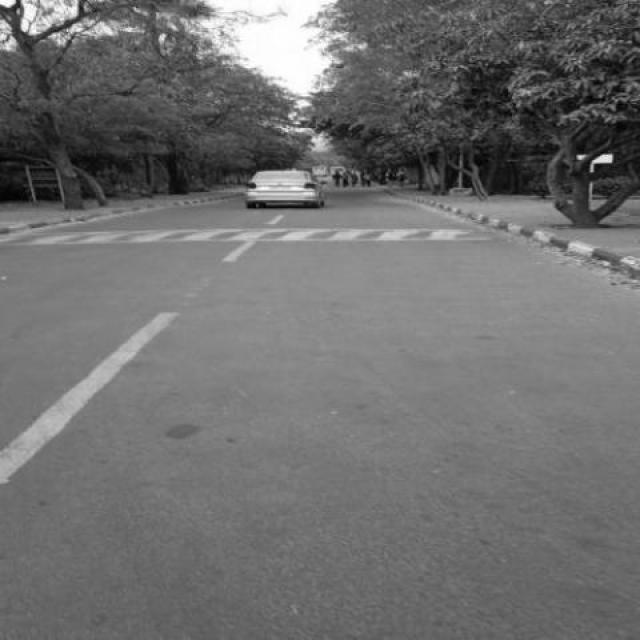Speed Bump: (9, 226, 506, 247)
